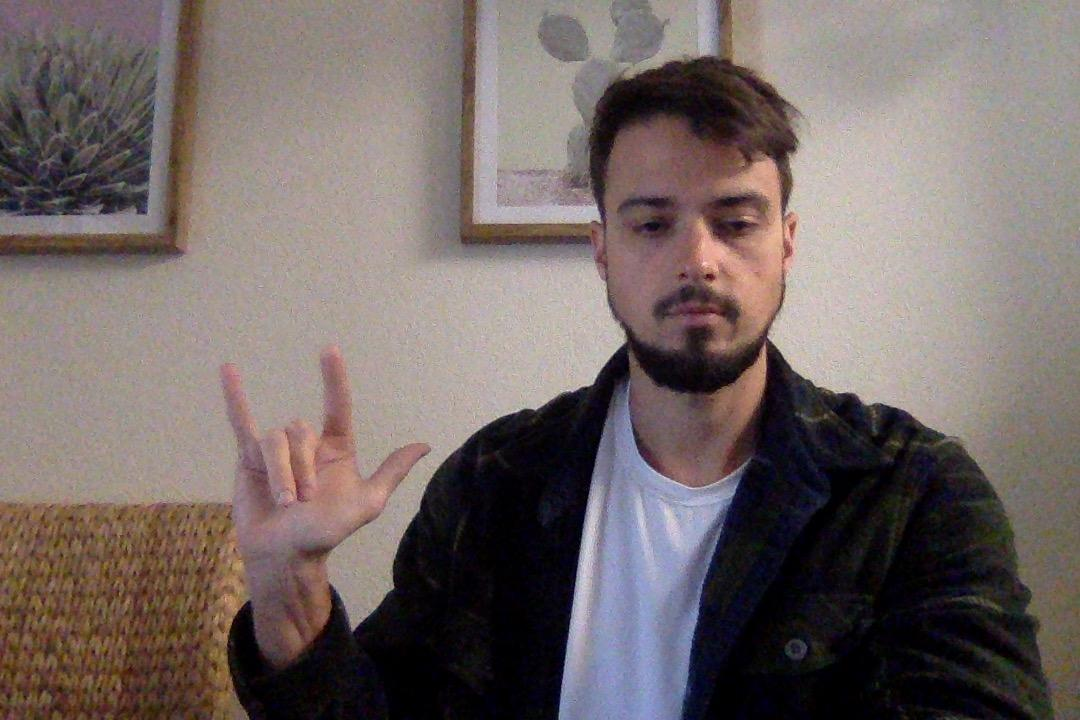Love-You: (224, 334, 435, 576)
